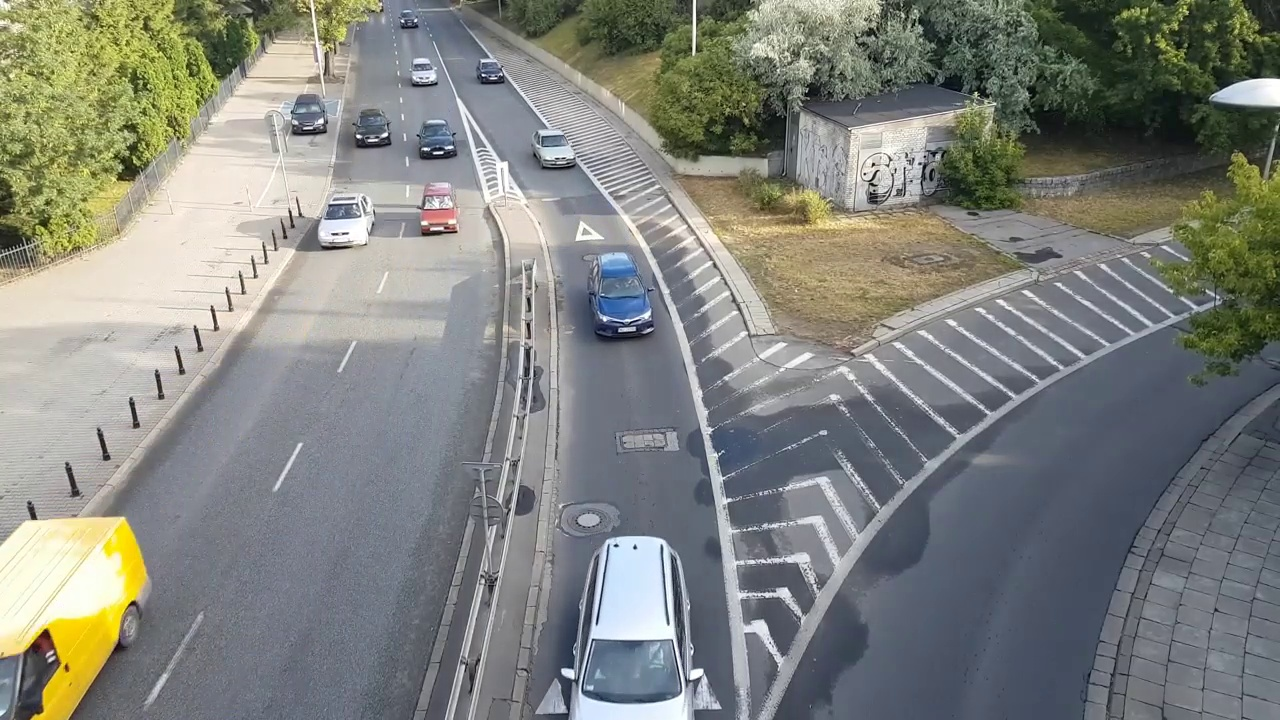car: (1, 508, 157, 720), (570, 534, 691, 720), (588, 250, 657, 342), (319, 193, 375, 245), (421, 180, 456, 235), (291, 91, 330, 134), (534, 130, 574, 170), (420, 120, 457, 158), (354, 108, 391, 143), (477, 58, 506, 85), (412, 55, 435, 87), (400, 9, 419, 29)
